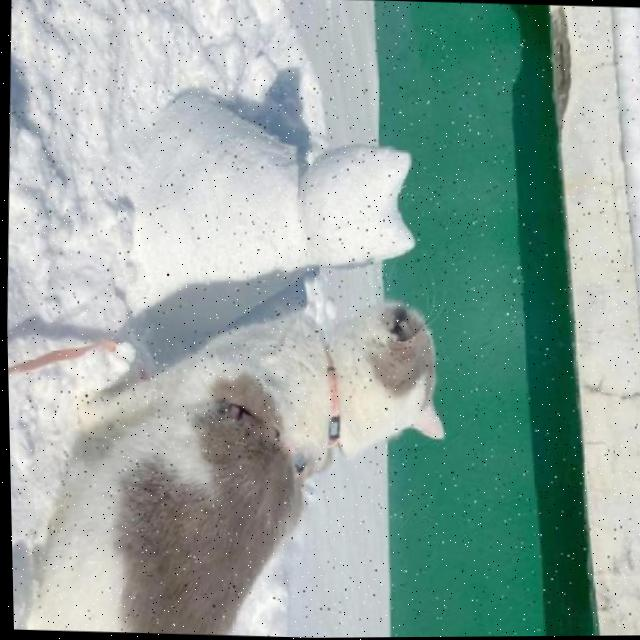Cats: (5, 283, 462, 640)
